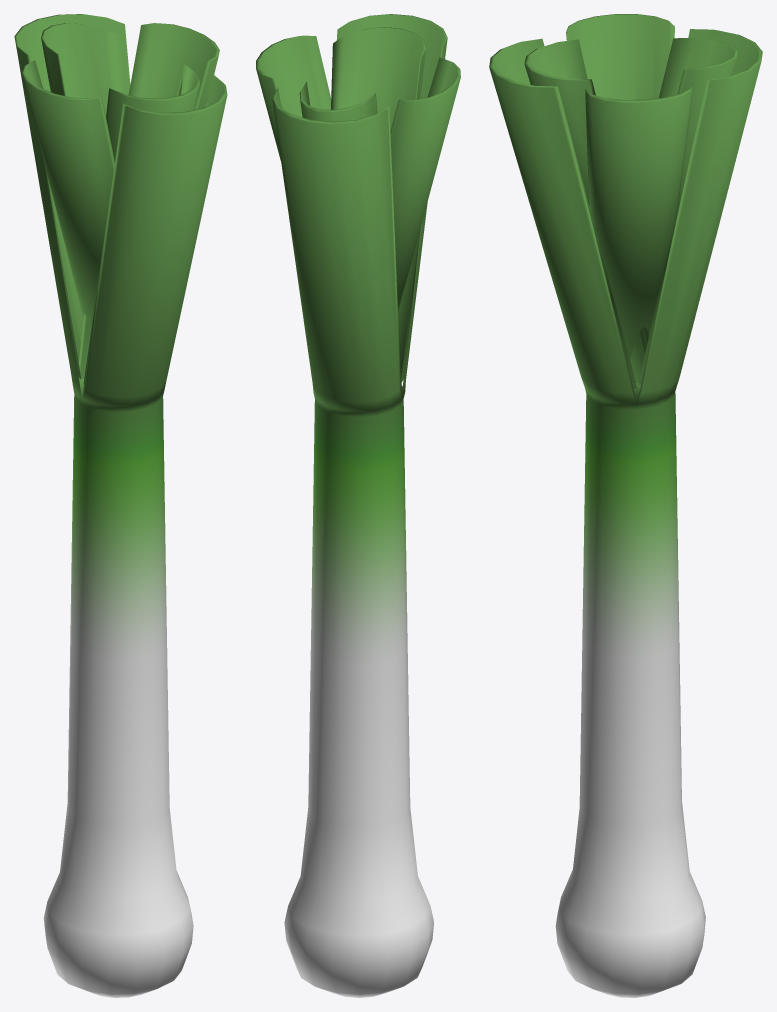
The model's file is Poirot.glb.
3 views of the same model, side by side, from view 1: azimuth 30°, elevation 25°; view 2: azimuth 150°, elevation 25°; view 3: azimuth 270°, elevation 25° (orthographic).
Visible parts, largest first — view 1: Poirot; view 2: Poirot; view 3: Poirot.
Part boxes in pixels (x1,y1,x2,y2): Poirot: (14, 14, 227, 997); Poirot: (256, 14, 460, 997); Poirot: (489, 14, 762, 997).
Size of the model in its own units: 1.28 by 6.22 by 1.67.
Materials: 3 (1 with a texture image).
